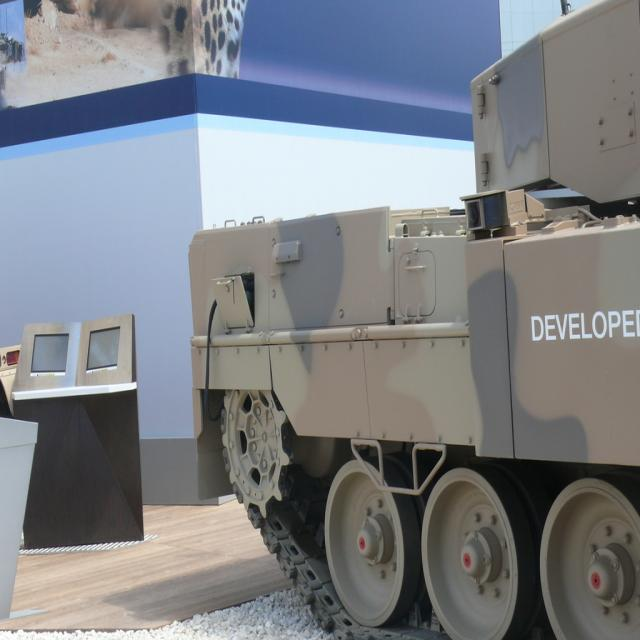tank: (186, 0, 640, 639)
